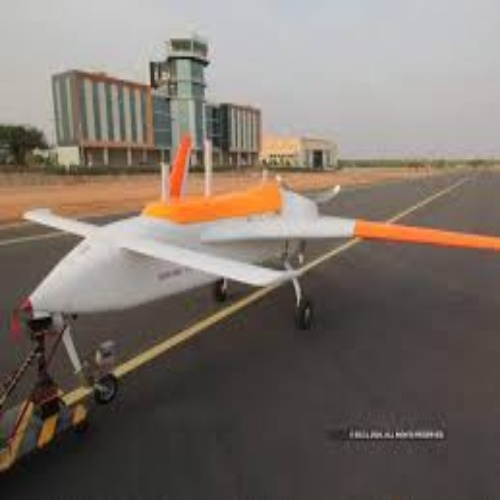uav: (11, 132, 498, 341)
